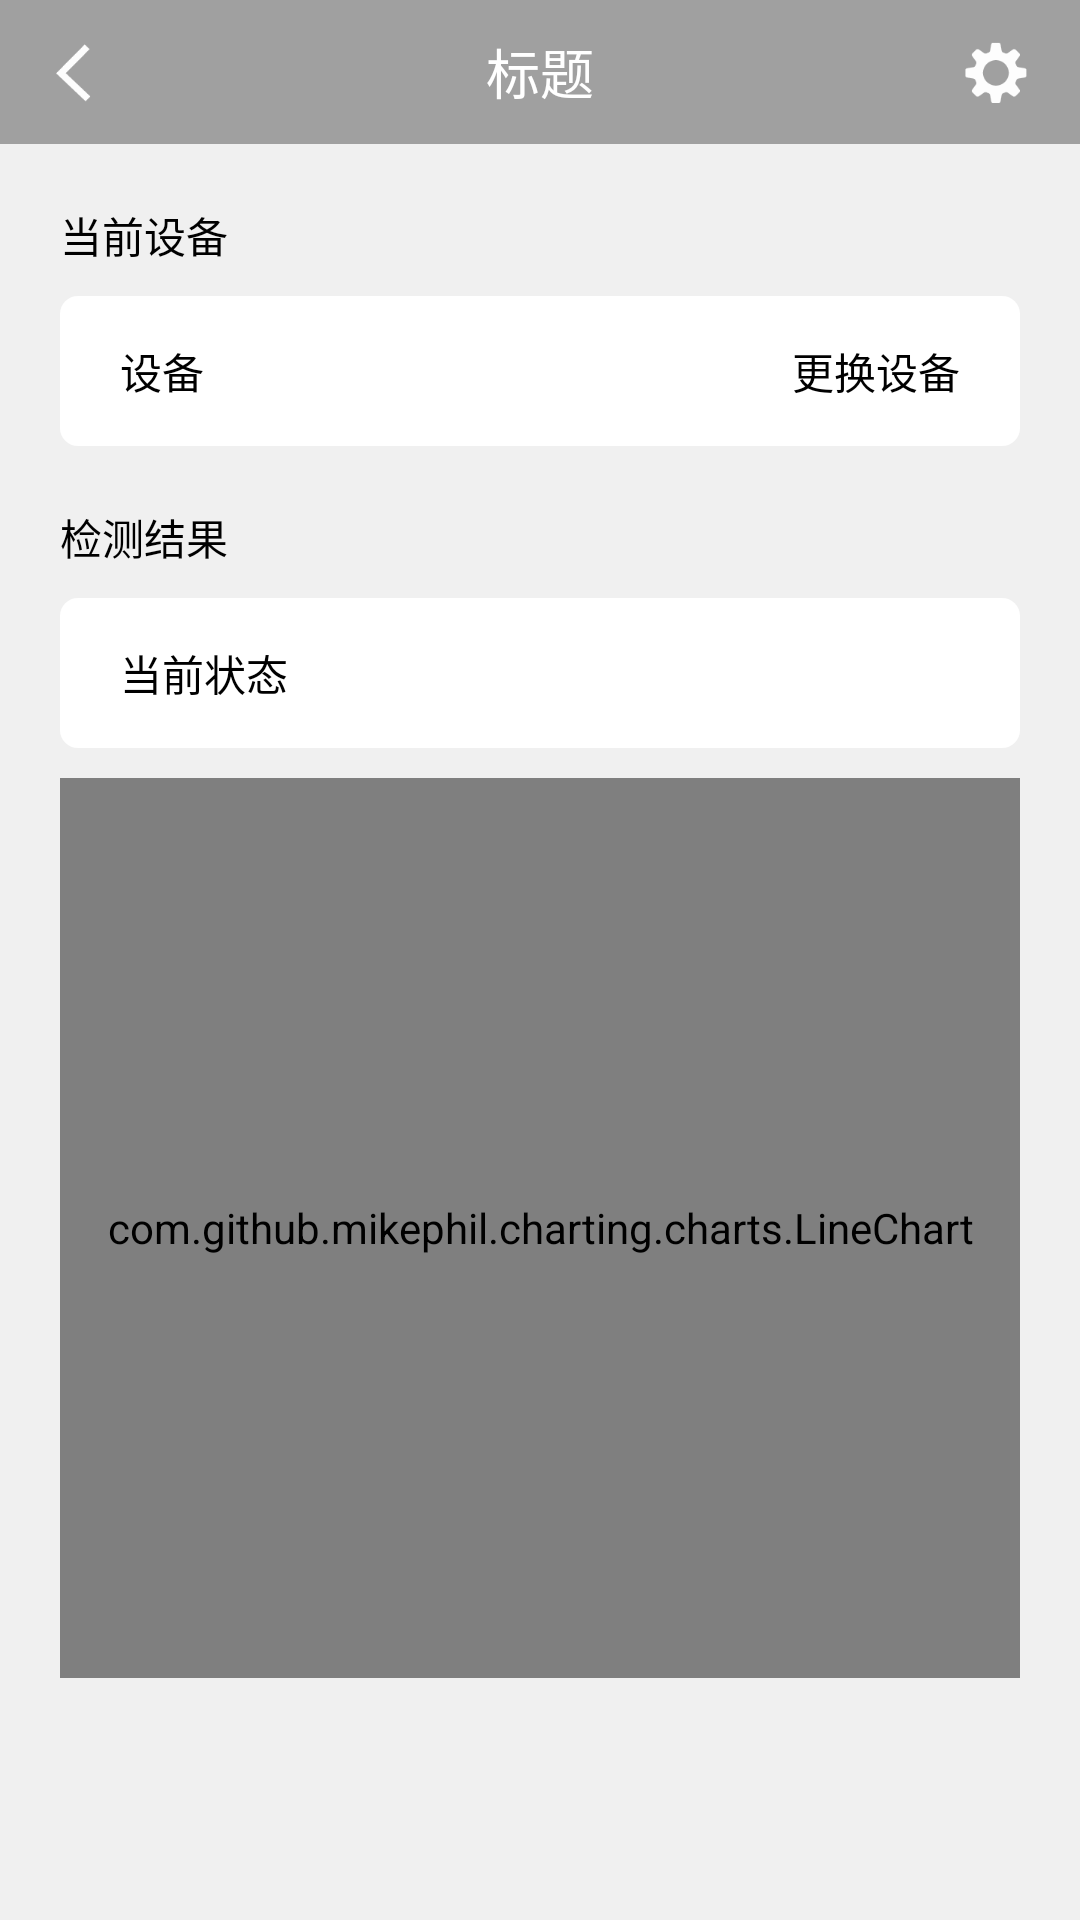

Screen size 1080 × 1920. Icon name, then its center in pixels as [x,y]:
back: [73,72]
